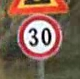limite 30: (15, 13, 64, 60)
